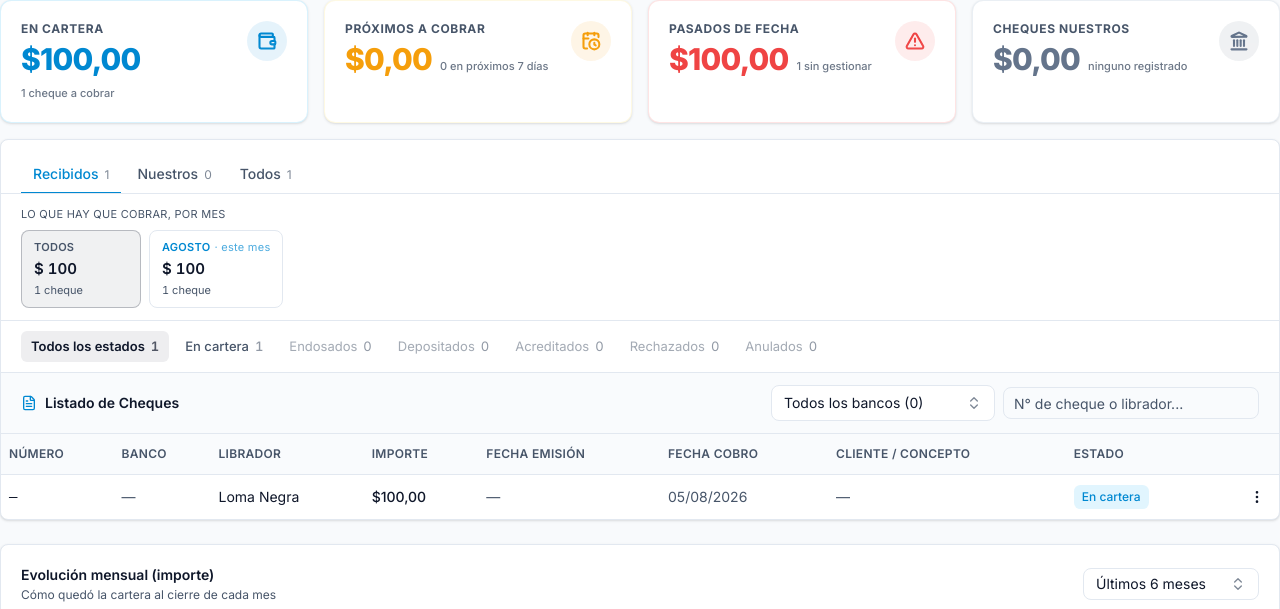
Test: ChequesList — acciones › un recibido en cartera se deposita; nunca se debita
Click the button named "Acciones del cheque" at x=1257, y=496, box top-left (1243, 482), bottom-right (1271, 510)
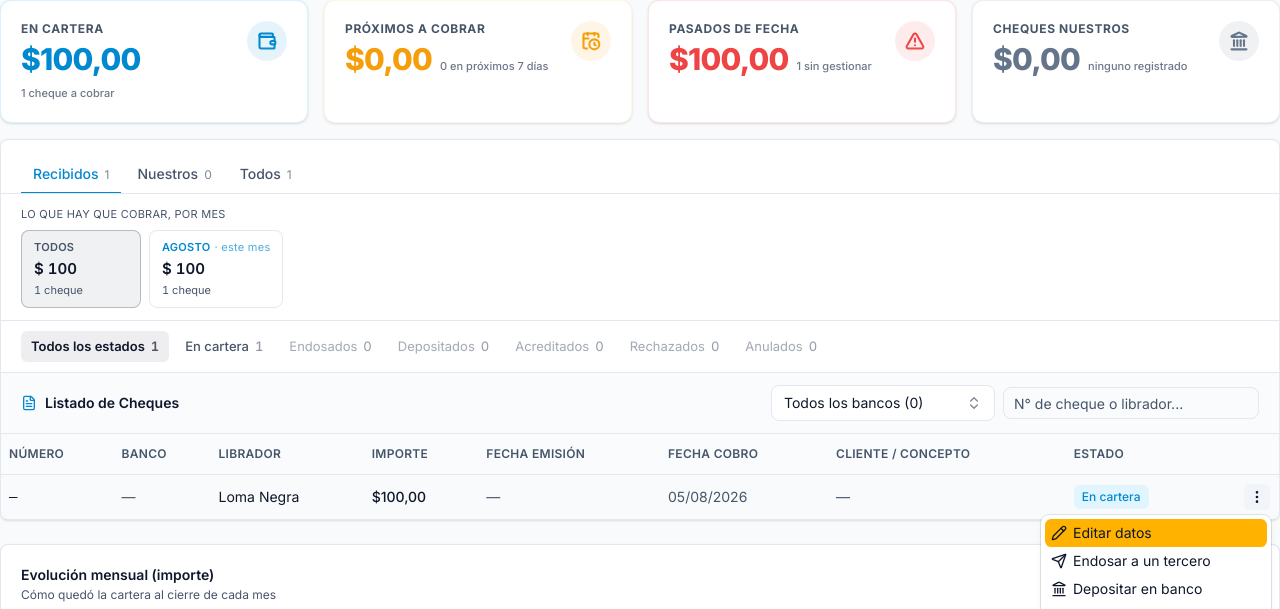
Result: the menu item "Depositar en banco" is shown at top-left (1051, 580), bottom-right (1202, 597)
